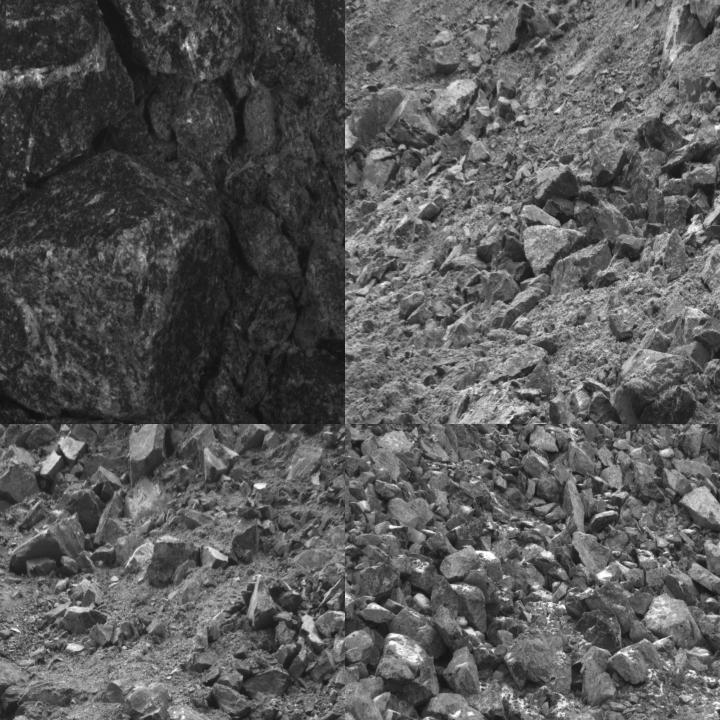stone: (0, 148, 233, 423), (0, 0, 136, 217), (58, 0, 244, 82), (613, 350, 703, 423), (258, 350, 344, 423), (292, 237, 344, 350), (174, 80, 238, 160), (375, 634, 440, 712), (507, 621, 574, 696), (13, 514, 86, 572), (549, 239, 620, 296), (642, 592, 706, 650), (669, 307, 719, 372), (523, 225, 586, 276), (46, 481, 106, 534), (389, 606, 444, 662), (386, 90, 441, 144), (146, 538, 200, 588), (427, 78, 477, 131), (610, 638, 665, 684), (355, 544, 400, 600), (578, 646, 618, 707), (128, 424, 166, 488), (633, 386, 696, 423), (529, 160, 579, 205), (574, 611, 622, 655), (450, 581, 487, 637), (430, 606, 474, 652), (679, 485, 719, 533), (442, 648, 480, 698), (421, 694, 495, 719), (572, 532, 613, 576), (241, 666, 291, 701), (0, 465, 43, 505), (285, 444, 328, 482), (589, 139, 625, 184), (403, 548, 438, 592), (247, 576, 276, 627), (202, 441, 239, 480), (345, 682, 384, 719), (482, 270, 519, 308), (563, 475, 586, 536), (440, 545, 479, 580), (664, 228, 690, 279), (666, 568, 700, 606), (421, 530, 459, 564), (82, 467, 122, 499), (212, 684, 248, 717), (166, 705, 249, 719), (660, 194, 689, 234), (518, 205, 562, 231), (234, 424, 271, 454), (432, 575, 458, 617), (683, 163, 718, 194), (345, 630, 375, 665), (232, 516, 260, 553), (586, 391, 618, 423), (547, 390, 578, 423), (696, 611, 719, 655), (568, 439, 595, 476), (387, 498, 423, 525), (613, 232, 645, 262), (57, 436, 86, 467), (679, 424, 704, 459), (314, 610, 344, 639), (273, 640, 304, 668), (535, 470, 561, 503), (565, 705, 626, 719), (26, 555, 62, 578), (522, 448, 550, 477), (530, 425, 560, 452), (455, 263, 482, 292), (588, 509, 619, 534), (312, 650, 335, 683), (41, 449, 64, 481), (399, 291, 425, 319), (608, 314, 633, 339), (632, 460, 655, 485), (704, 538, 719, 576), (594, 268, 622, 288), (289, 648, 308, 677), (345, 122, 359, 158), (638, 483, 664, 502), (345, 160, 363, 187), (467, 140, 489, 162), (92, 542, 115, 562), (77, 550, 95, 575), (345, 586, 356, 621), (59, 555, 79, 574), (709, 59, 719, 96), (514, 316, 531, 336), (362, 318, 378, 332)
